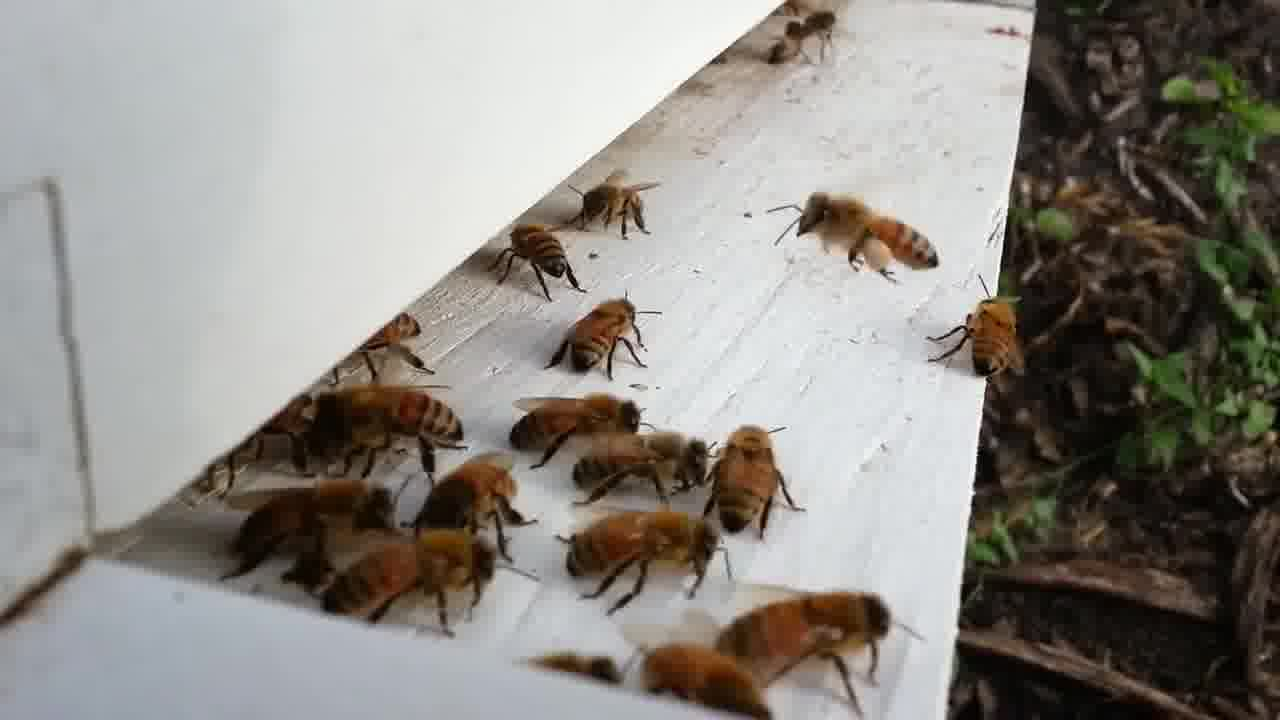pollen: (778, 194, 943, 279)
